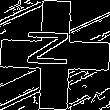N_E: (29, 34, 81, 76)
